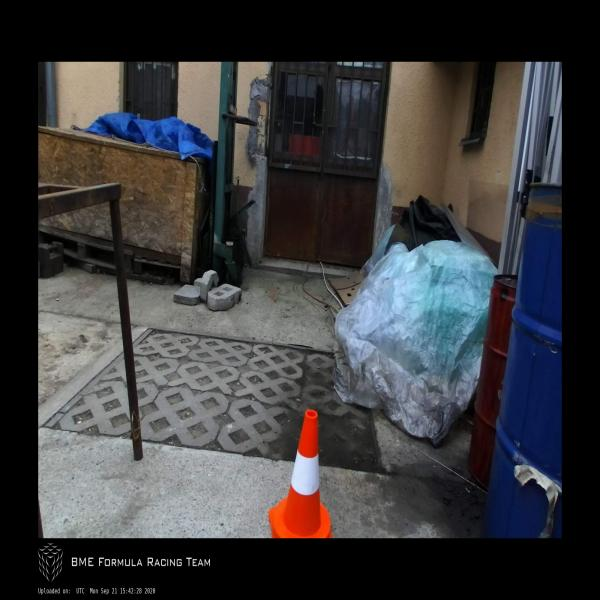orange_cone: (268, 409, 334, 538)
